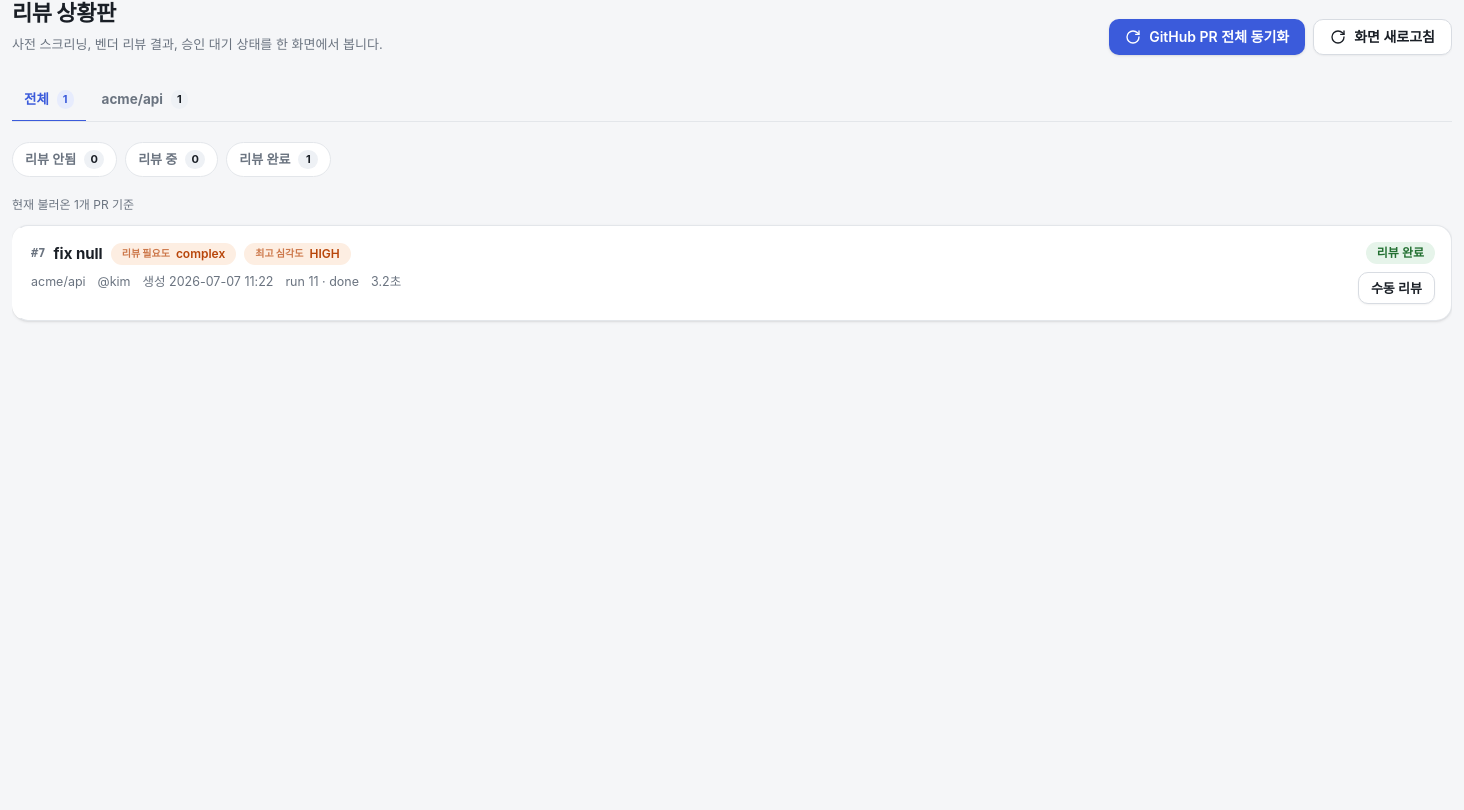
shows verification independence labels
What coordinates should you click on to do the following:
click the link "fix null"
I would click on:
 (78, 254)
Its box is [54, 242, 103, 266].
(page scrolled)
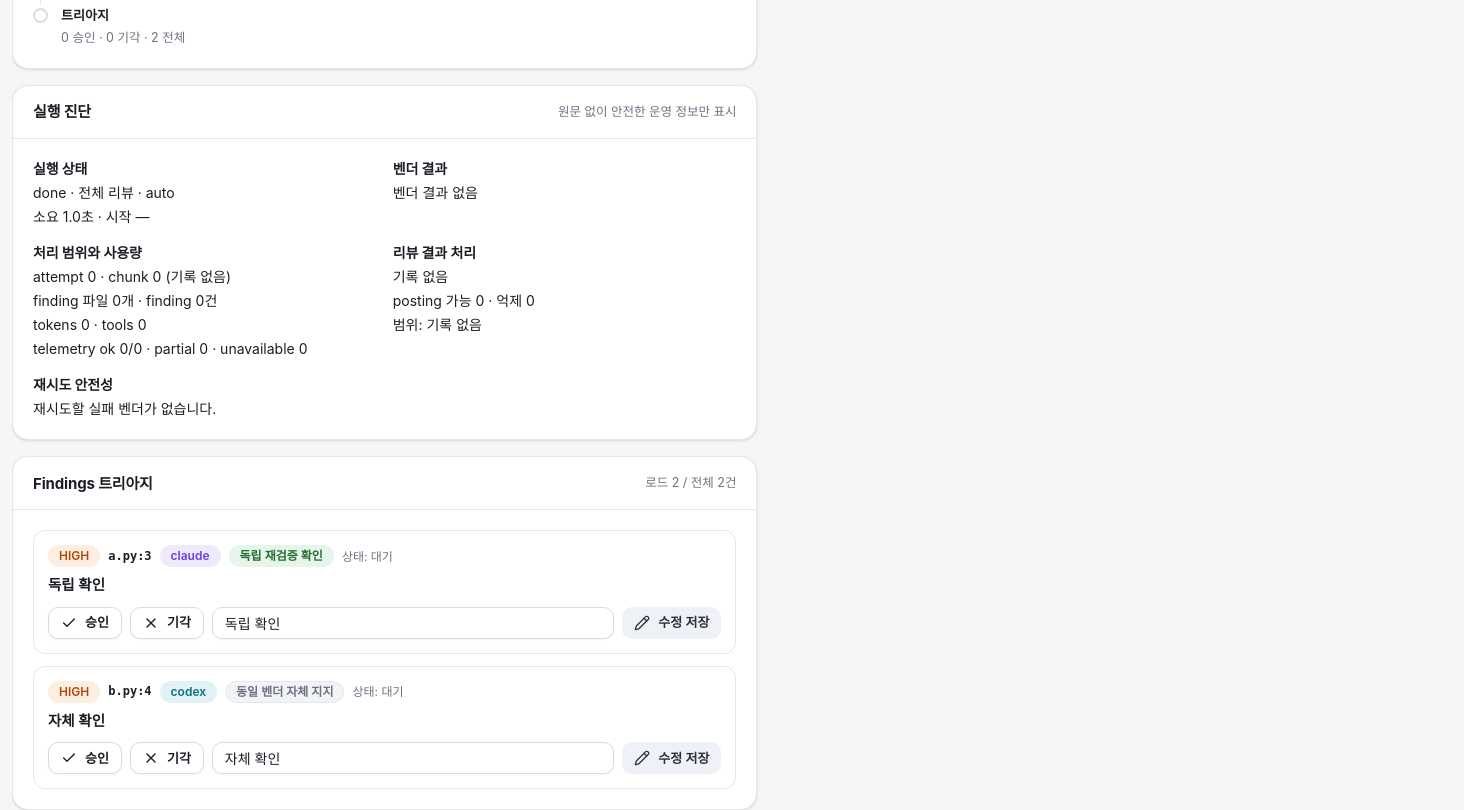
Check: the text "독립 재검증 확인" is shown, box [228, 545, 334, 567]
Check: the text "동일 벤더 자체 지지" is shown, box [225, 681, 344, 703]
